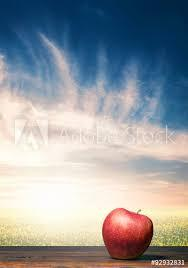Apple: (100, 206, 154, 258)
